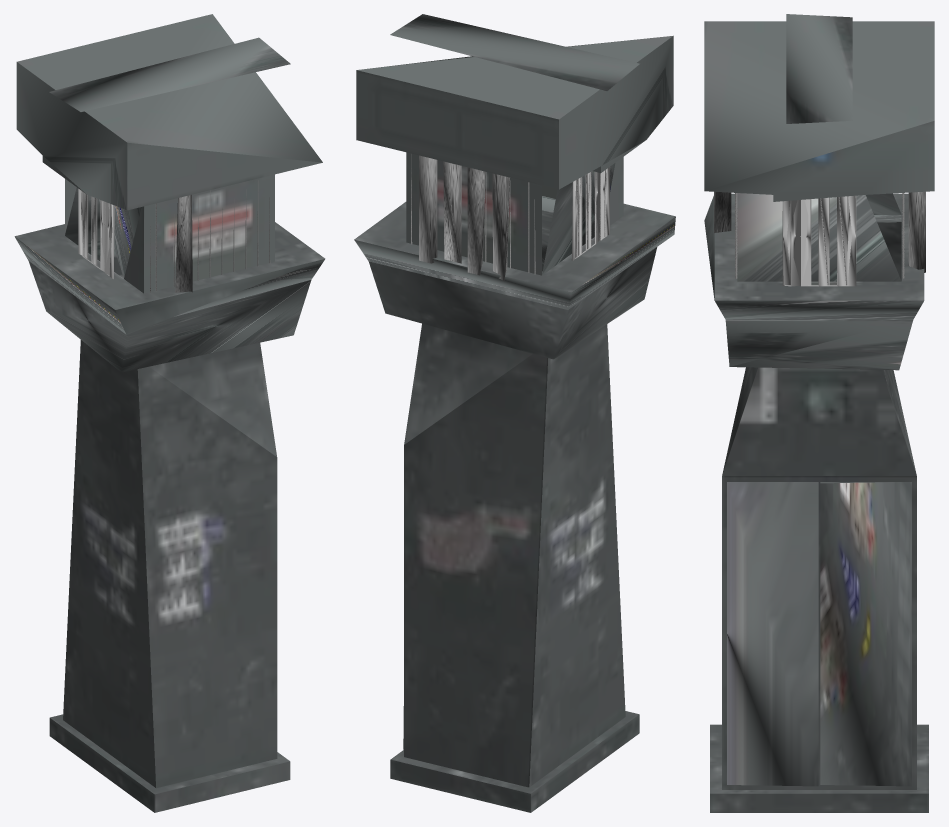
Rendered from cot-dien.glb.
The picture shows the model from 3 angles, left to right: view 1: azimuth 30°, elevation 25°; view 2: azimuth 150°, elevation 25°; view 3: azimuth 270°, elevation 25°; orthographic projection. The views are drawn at different scales.
Parts seen in each view (by area): view 1: Cube.113; view 2: Cube.113; view 3: Cube.113.
Part boxes in pixels (left/top/right/bottom): Cube.113: left=14, top=14, right=325, bottom=812; Cube.113: left=354, top=14, right=675, bottom=812; Cube.113: left=704, top=14, right=934, bottom=812.
Size of the model in its own units: 0.3222 by 1 by 0.2935.
3 materials, 2 textured.
